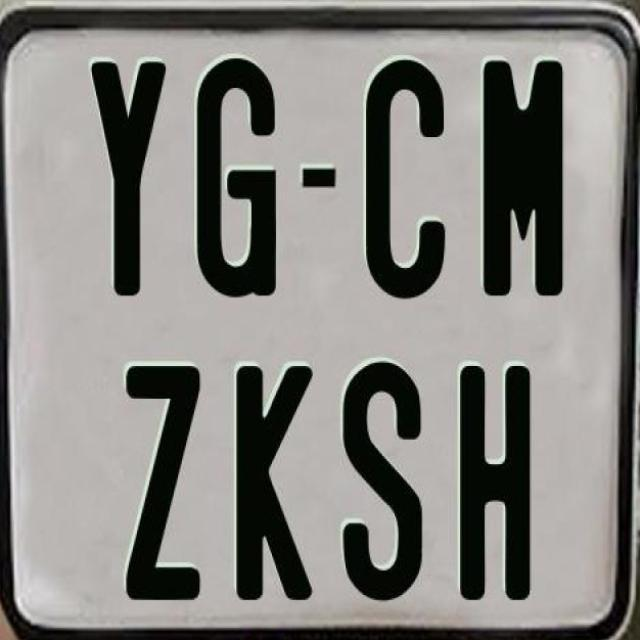license-plate: (4, 12, 640, 635)
